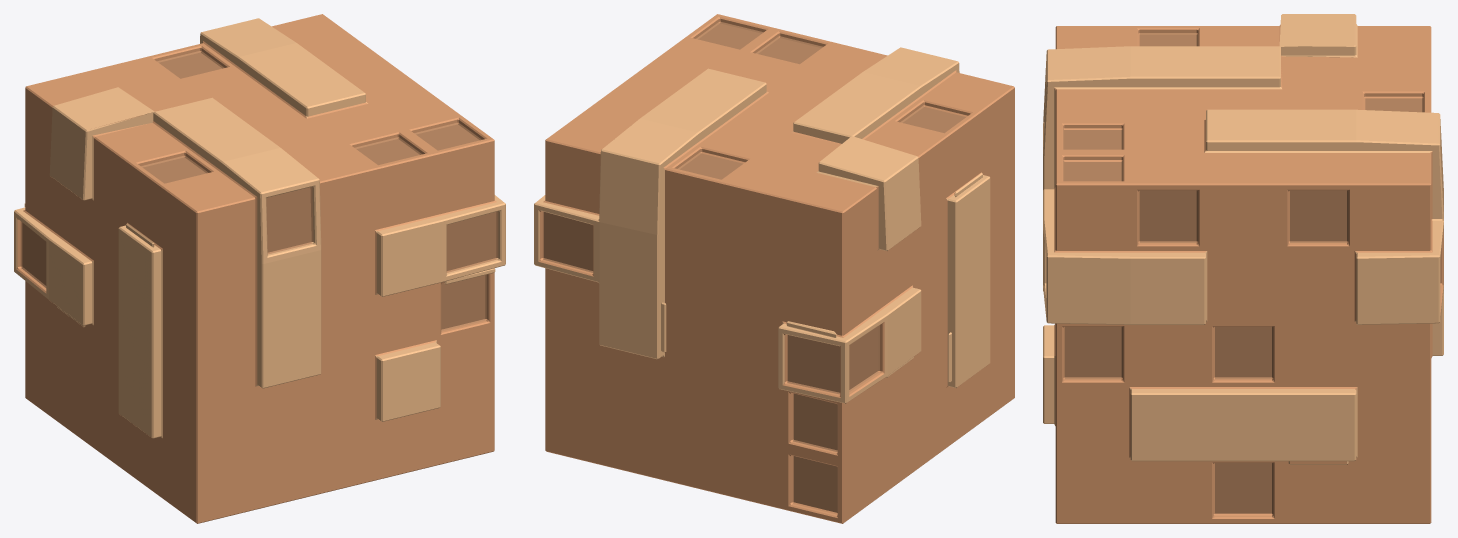
File: OldBrickWall.fbx
The picture shows the model from 3 angles, left to right: view 1: azimuth 30°, elevation 25°; view 2: azimuth 150°, elevation 25°; view 3: azimuth 270°, elevation 25°; orthographic projection. The views are drawn at different scales.
Visible parts, largest first — view 1: Cube.239; view 2: Cube.239; view 3: Cube.239.
Boxes of the visible parts, x1=… form: Cube.239: x1=14, y1=14, x2=505, y2=523; Cube.239: x1=534, y1=14, x2=1014, y2=523; Cube.239: x1=1043, y1=14, x2=1443, y2=523.
Bounding box in the file's own units: 107 × 103 × 107.
